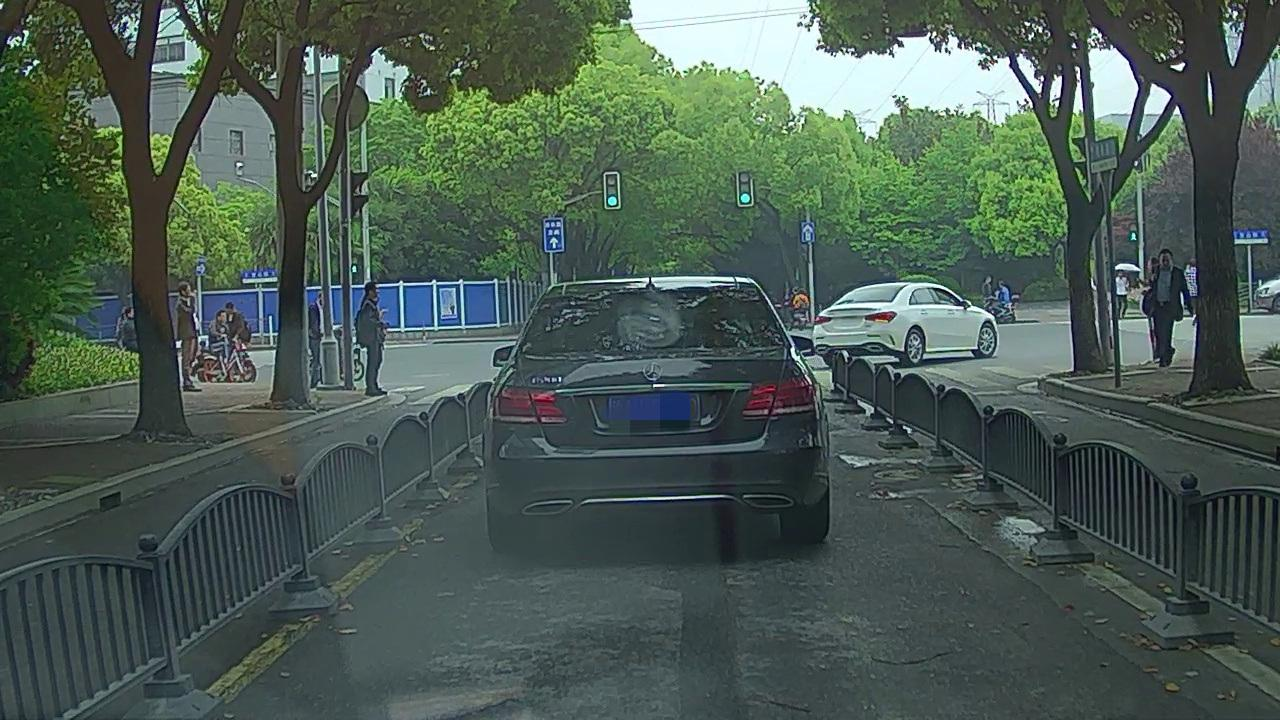traffic_light: (605, 174, 619, 207), (737, 172, 751, 204)
